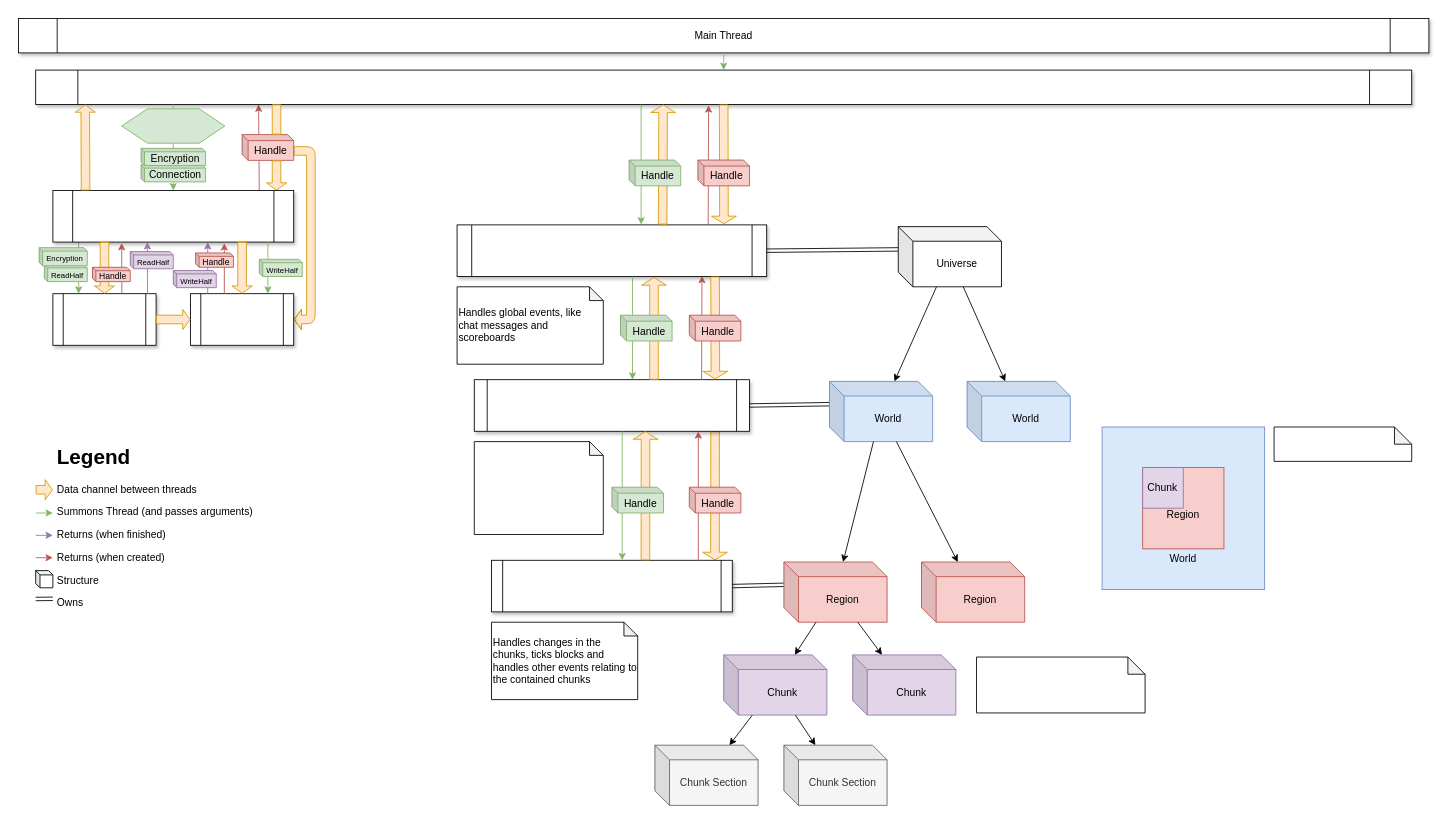
The diagram is 1449 pixels wide and 820 high, and some of its shapes have lost their labels. The centre of each missing label's shape, as x and y in pixels:
"Client Connection Handler" goes at (x=174, y=217).
"Handles world events, like managing regions, world generation and entities" goes at (x=538, y=487).
"New Connection" goes at (x=173, y=125).
"Receiver Thread" goes at (x=105, y=320).
"Region Thread" goes at (x=612, y=587).
"Region: 2x2 Chunks Chunk: 16 Chunk Sections Chunk Section: 16x16x16 Blocks" goes at (x=1060, y=684).
"Sender Thread" goes at (x=242, y=320).
"Server Thread" goes at (x=724, y=88).
"Top-down view of a world" goes at (x=1342, y=443).
"Universe Thread" goes at (x=612, y=252).
"World Thread" goes at (x=612, y=406).
